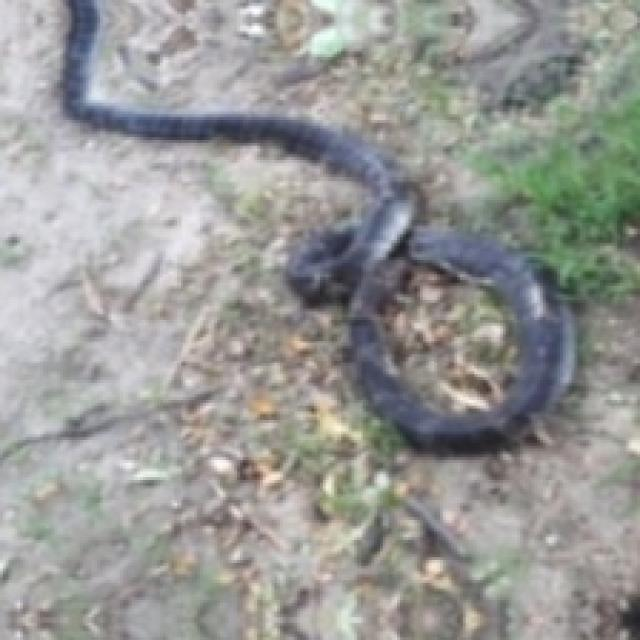king cobra: (66, 0, 571, 449)
